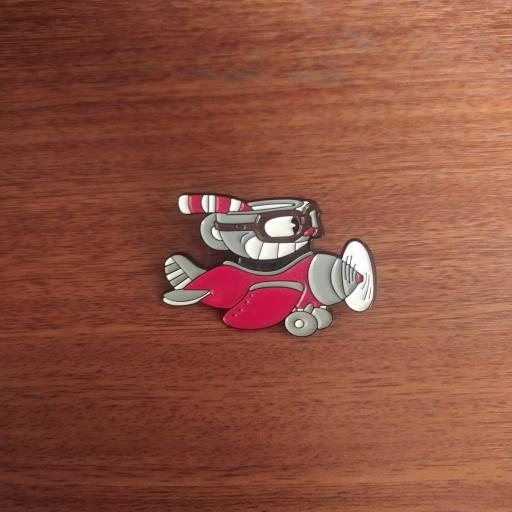Pin: (140, 182, 388, 342)
